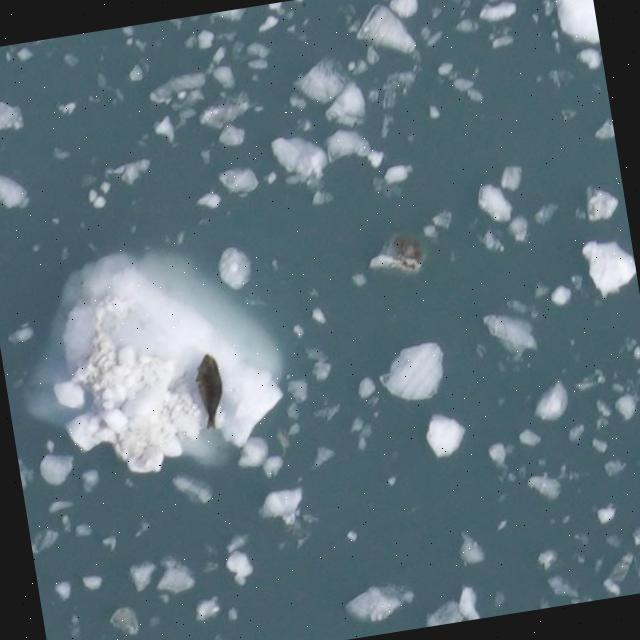seal: (190, 351, 229, 431)
